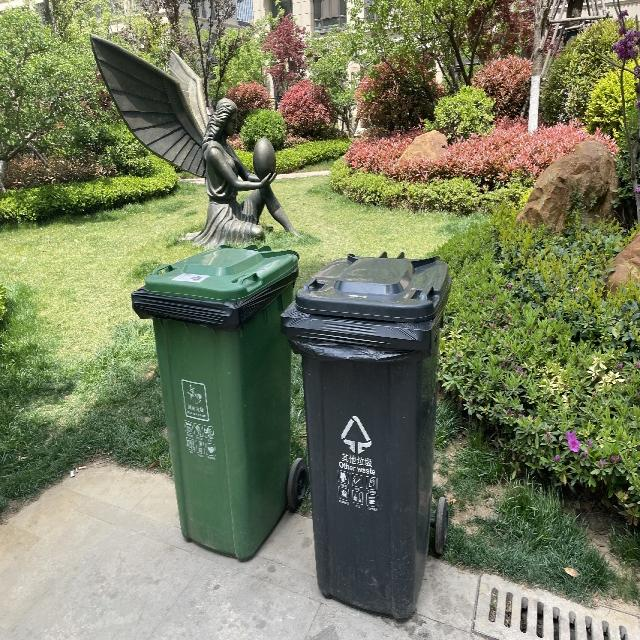garbage_bin: (280, 250, 450, 622), (130, 244, 298, 560)
